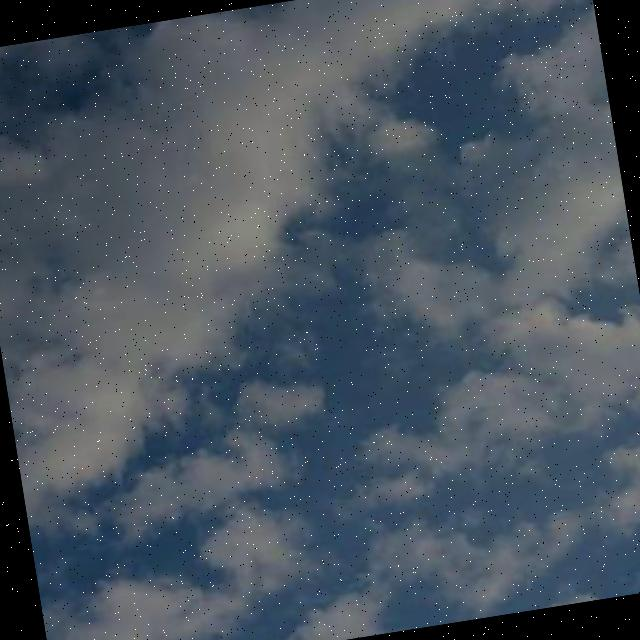Cc: (1, 14, 640, 640)
